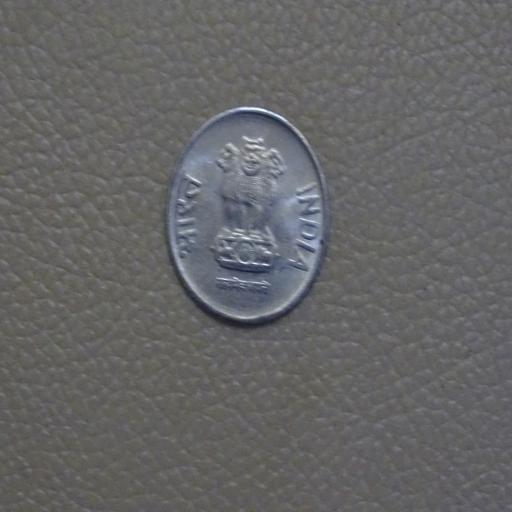rupee1: (162, 104, 332, 326)
